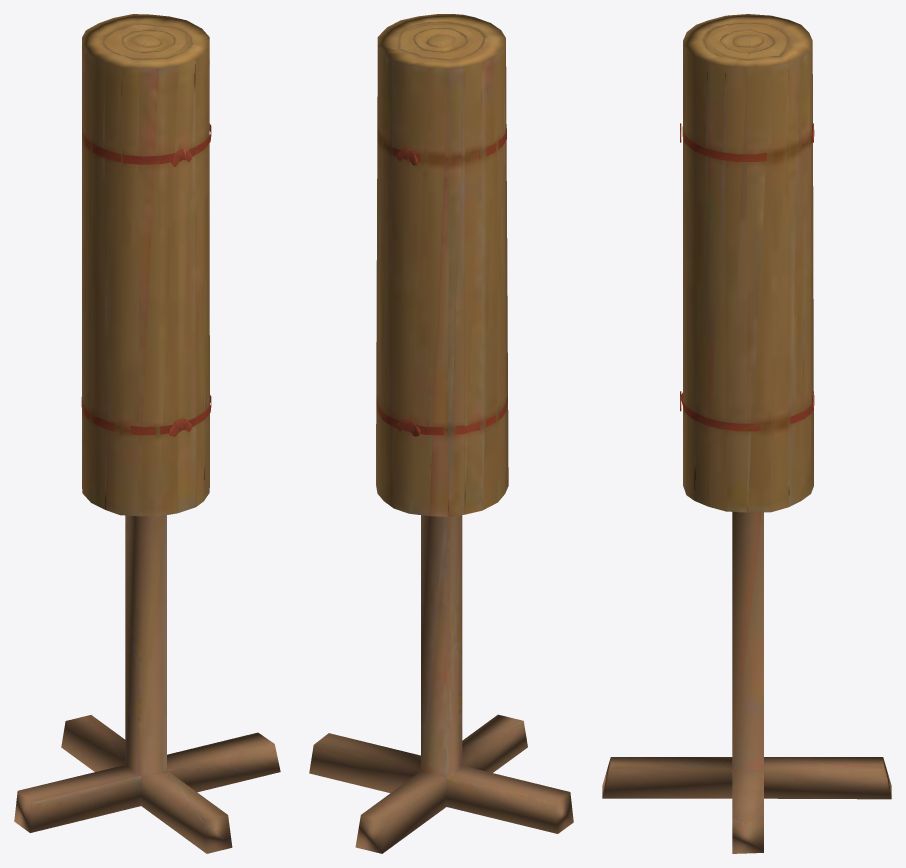
The model's file is target.glb.
The picture shows the model from 3 angles, left to right: view 1: azimuth 30°, elevation 25°; view 2: azimuth 150°, elevation 25°; view 3: azimuth 270°, elevation 25°; orthographic projection.
Parts seen in each view (by area): view 1: geometry_0; view 2: geometry_0; view 3: geometry_0.
Boxes of the visible parts, x1,y1,x2,y2 form: geometry_0: (14,14,280,853); geometry_0: (309,14,573,853); geometry_0: (602,14,891,853).
Bounding box in the file's own units: 0.5542 × 1.6 × 0.5575.
Materials: 1 (1 with a texture image).
